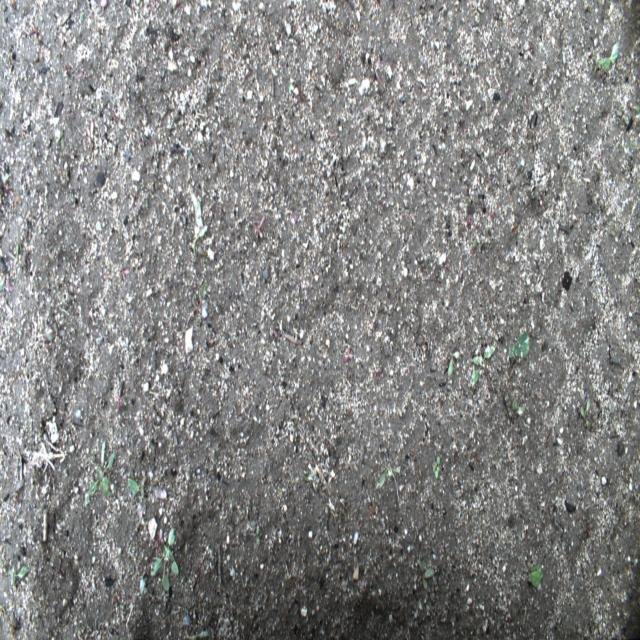weed: (84, 440, 115, 507), (150, 527, 180, 591), (189, 192, 208, 264), (471, 343, 495, 385), (376, 465, 402, 491), (418, 559, 437, 591), (526, 559, 545, 589), (598, 43, 618, 71), (248, 213, 266, 240), (6, 565, 29, 586), (127, 478, 146, 502), (580, 397, 592, 431), (448, 348, 460, 379), (198, 246, 215, 264), (431, 456, 440, 481), (255, 523, 259, 548)
